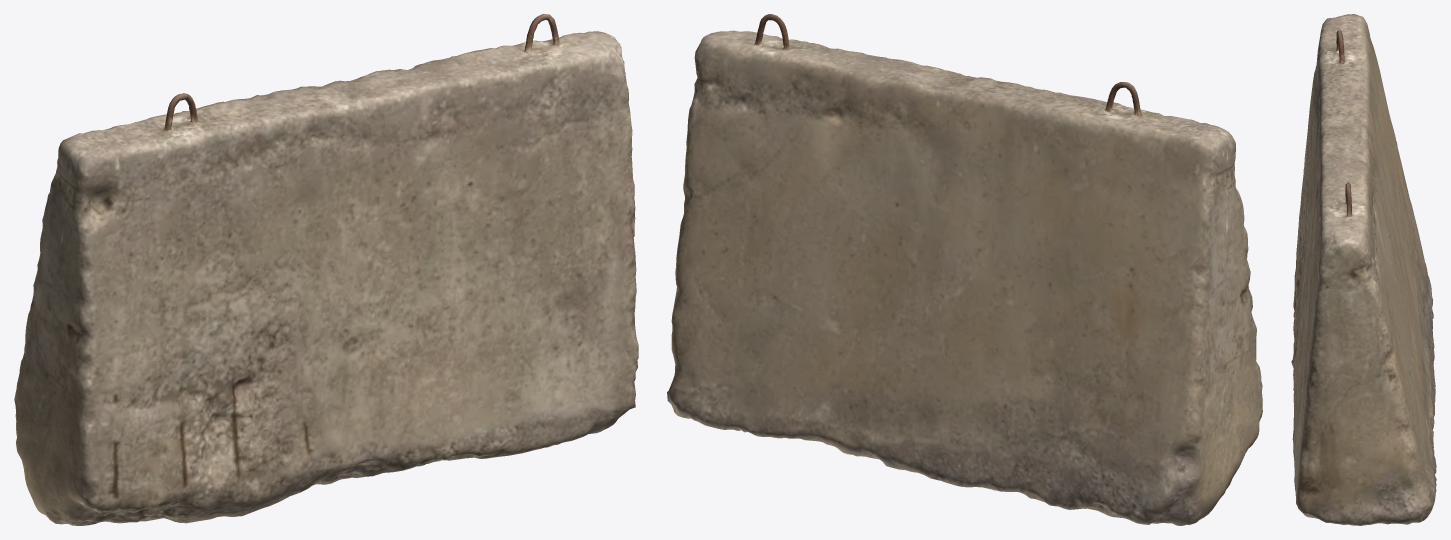
The model's file is concrete_road_barrier_02.glb.
3 views of the same model, side by side, from view 1: azimuth 30°, elevation 25°; view 2: azimuth 150°, elevation 25°; view 3: azimuth 270°, elevation 25° (orthographic). The views are drawn at different scales.
Visible parts, largest first — view 1: concrete_road_barrier_02; view 2: concrete_road_barrier_02; view 3: concrete_road_barrier_02.
Boxes of the visible parts, x1=… form: concrete_road_barrier_02: x1=14, y1=14, x2=638, y2=525; concrete_road_barrier_02: x1=667, y1=14, x2=1262, y2=525; concrete_road_barrier_02: x1=1291, y1=14, x2=1436, y2=525.
Size of the model in its own units: 1.57 by 1.11 by 0.4421.
1 material, 1 textured.
